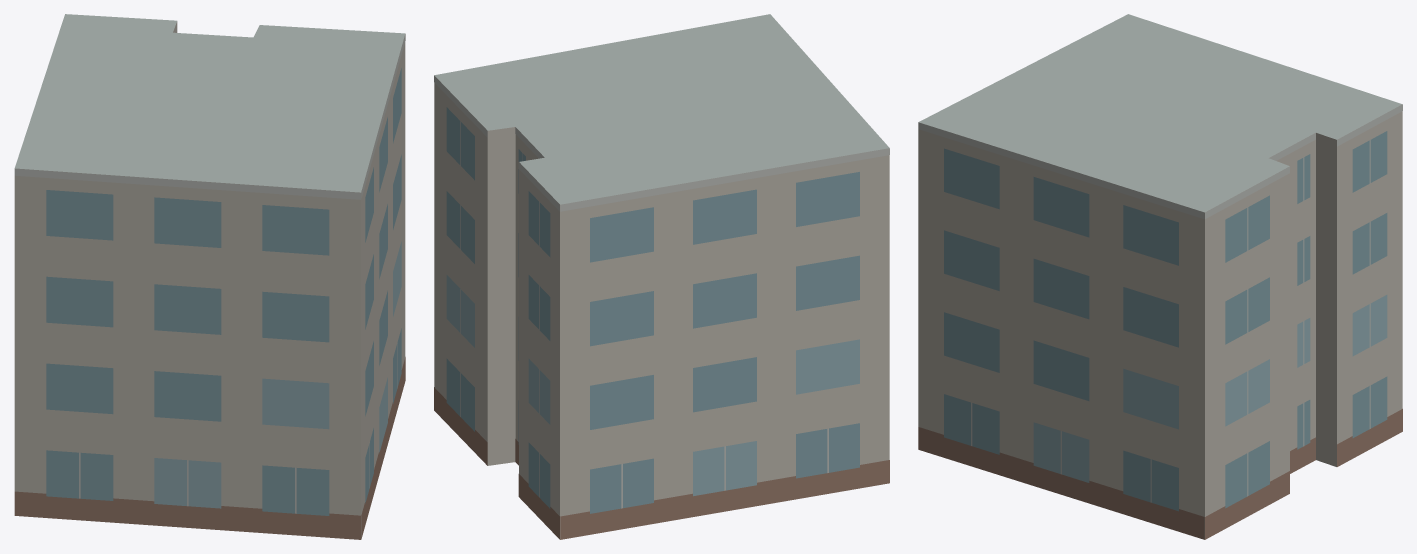
File: survey-upis-32830861.glb
3 views of the same model, side by side, from view 1: azimuth 30°, elevation 25°; view 2: azimuth 150°, elevation 25°; view 3: azimuth 270°, elevation 25° (orthographic). The views are drawn at different scales.
Parts seen in each view (by area): view 1: survey-upis-32830861.tmp; view 2: survey-upis-32830861.tmp; view 3: survey-upis-32830861.tmp.
Part boxes in pixels (x1,y1,x2,y2): survey-upis-32830861.tmp: (14,14,405,539); survey-upis-32830861.tmp: (434,14,889,539); survey-upis-32830861.tmp: (918,14,1402,539).
Size of the model in its own units: 15.09 by 11.6 by 15.56.
